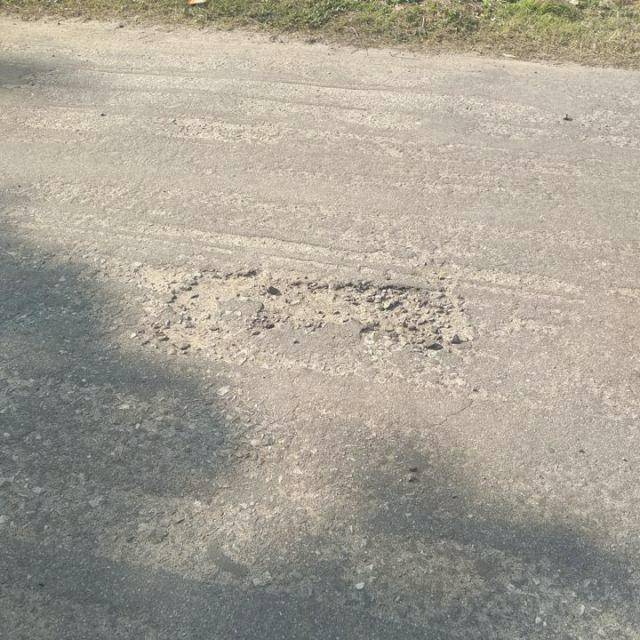Pothole: (163, 265, 480, 352)
